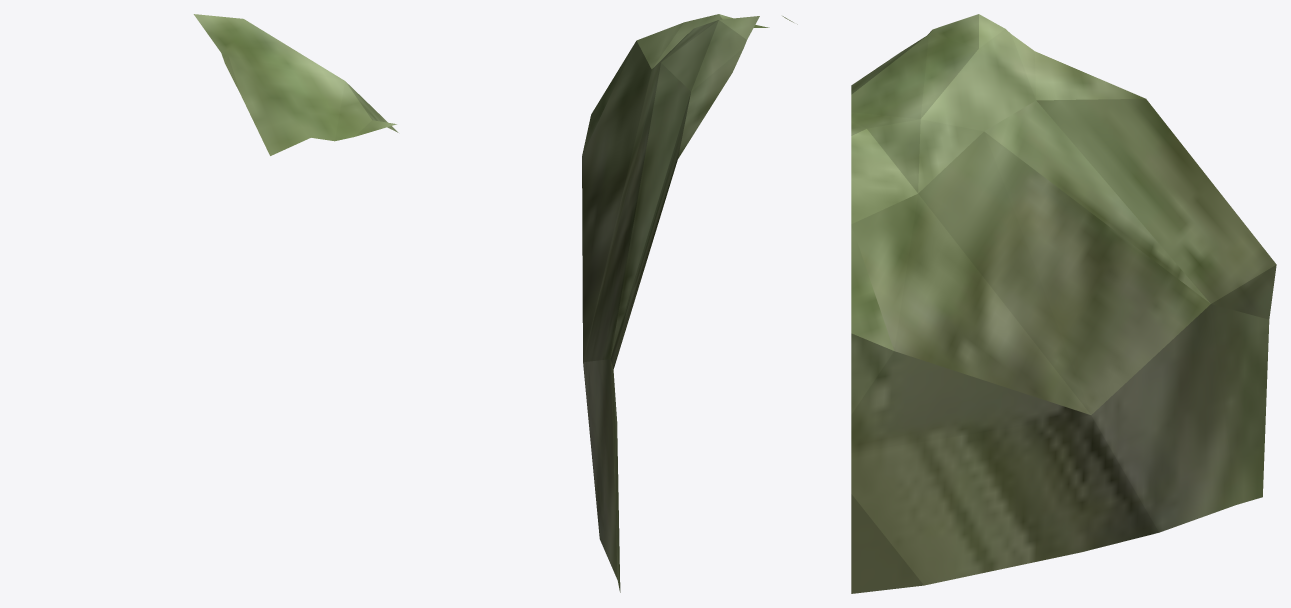
The picture shows the model from 3 angles, left to right: view 1: azimuth 30°, elevation 25°; view 2: azimuth 150°, elevation 25°; view 3: azimuth 270°, elevation 25°; orthographic projection. The views are drawn at different scales.
Size of the model in its own units: 0.3745 by 0.7343 by 0.5858.
1 material, 1 textured.
